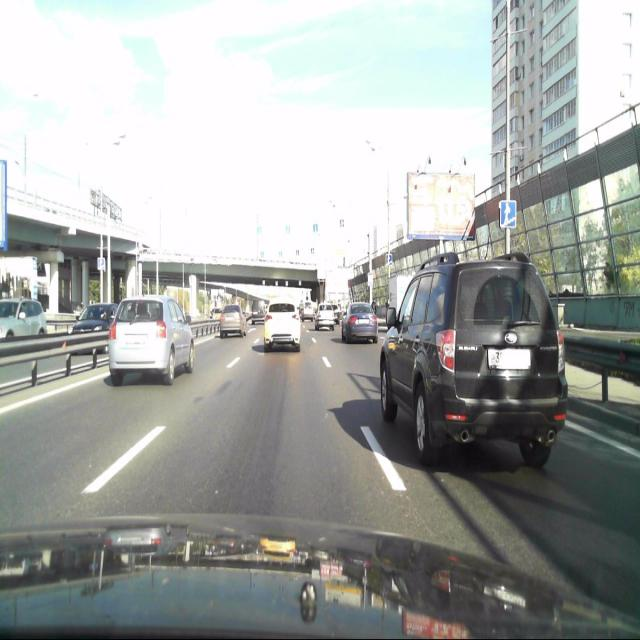road sign: (498, 200, 518, 229)
